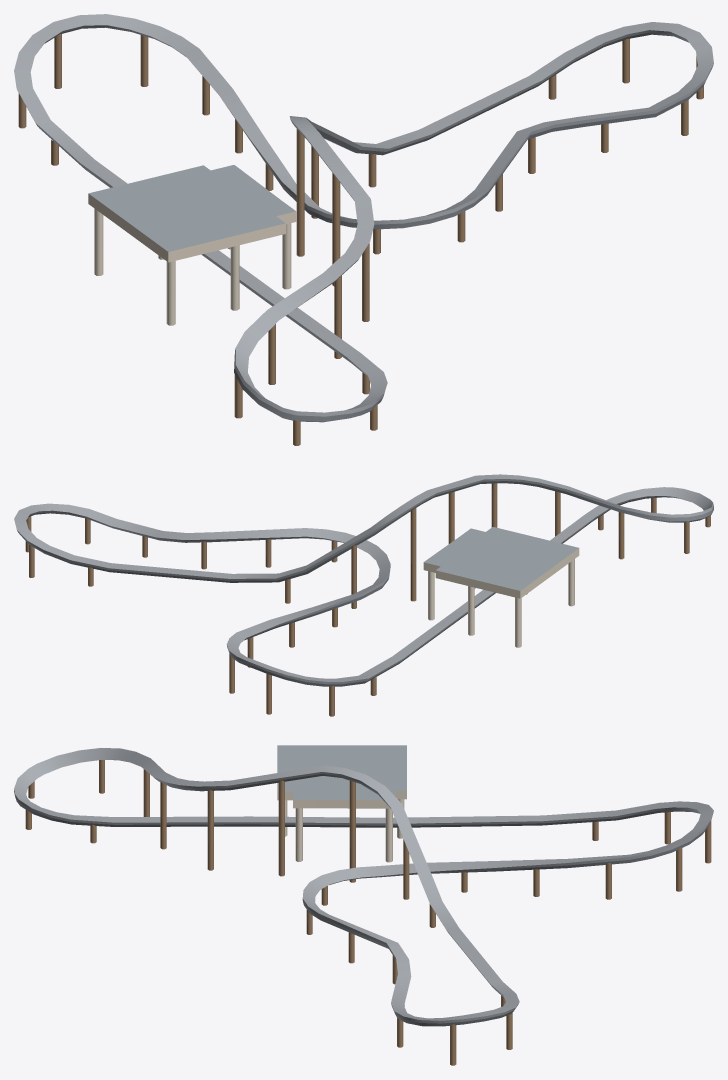
File: carowinds-snoopys-racing-railway.glb
3 views of the same model, one above another, from view 1: azimuth 30°, elevation 25°; view 2: azimuth 150°, elevation 25°; view 3: azimuth 270°, elevation 25° (orthographic). The views are drawn at different scales.
Visible parts, largest first — view 1: Snoopy's Racing Railway; view 2: Snoopy's Racing Railway; view 3: Snoopy's Racing Railway.
Boxes of the visible parts, <box> form: Snoopy's Racing Railway: <box>14,14,713,445</box>; Snoopy's Racing Railway: <box>14,474,713,716</box>; Snoopy's Racing Railway: <box>14,745,713,1065</box>.
Bounding box in the file's own units: 61.97 × 11.88 × 66.87.
